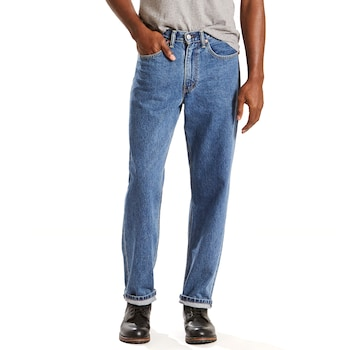jeans: (113, 24, 270, 314)
